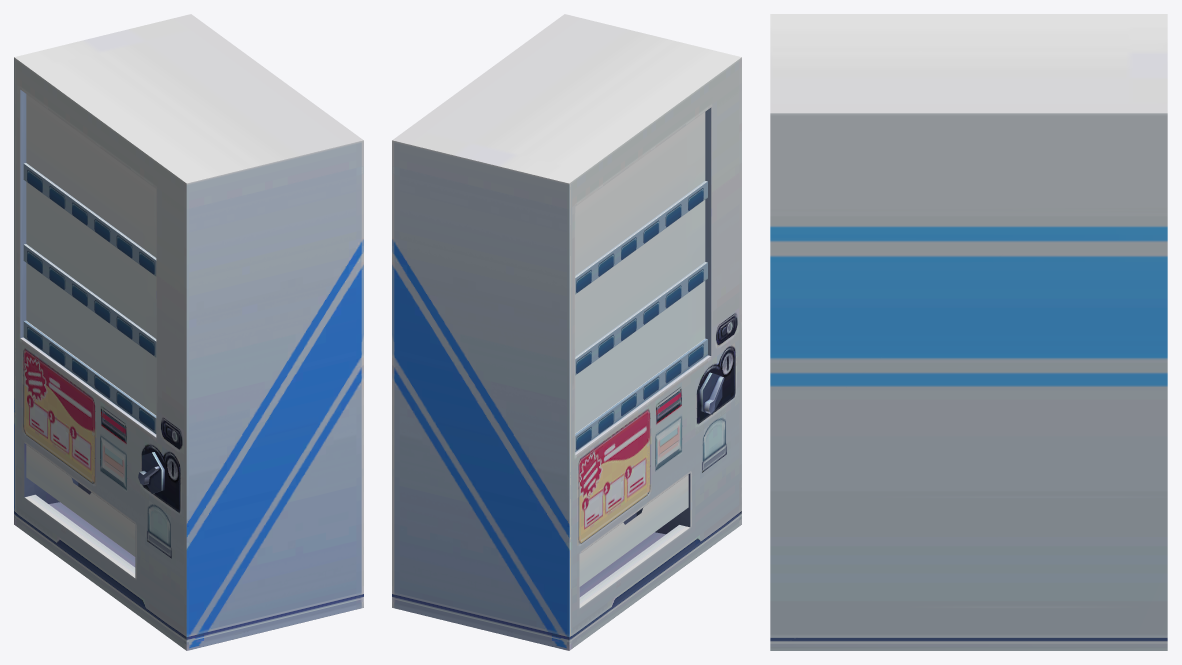
Rendered from my_abydosclassroom_01_vendingmachine.glb.
3 renders of one model, left to right at view 1: azimuth 30°, elevation 25°; view 2: azimuth 150°, elevation 25°; view 3: azimuth 270°, elevation 25°, orthographic. The views are drawn at different scales.
Parts seen in each view (by area): view 1: my_abydosclassroom_01_vendingmachine; view 2: my_abydosclassroom_01_vendingmachine; view 3: my_abydosclassroom_01_vendingmachine.
Part boxes in pixels (x1,y1,x2,y2): my_abydosclassroom_01_vendingmachine: [14, 14, 363, 650]; my_abydosclassroom_01_vendingmachine: [392, 14, 741, 650]; my_abydosclassroom_01_vendingmachine: [770, 14, 1167, 650].
Size of the model in its own units: 0.00557 by 0.0135 by 0.00901.
Materials: 2 (2 with a texture image).
